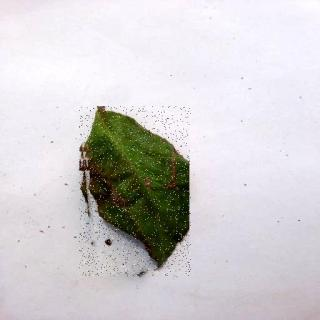Algal Leaf: (81, 107, 192, 277)
